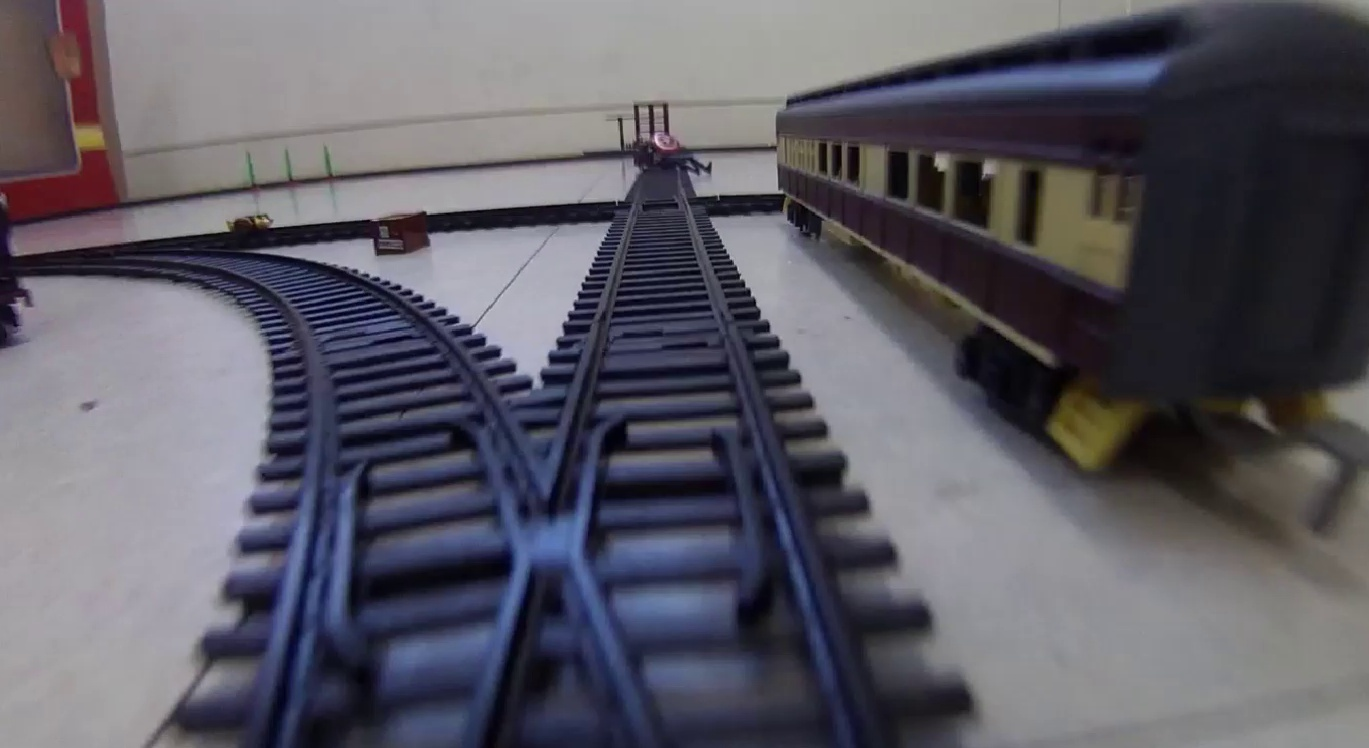box: (371, 211, 432, 254)
